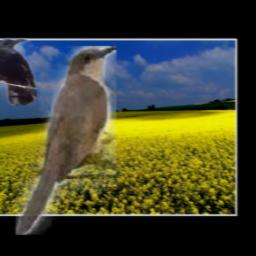Crow: (0, 38, 38, 105)
Cuckoo: (16, 47, 116, 236)
